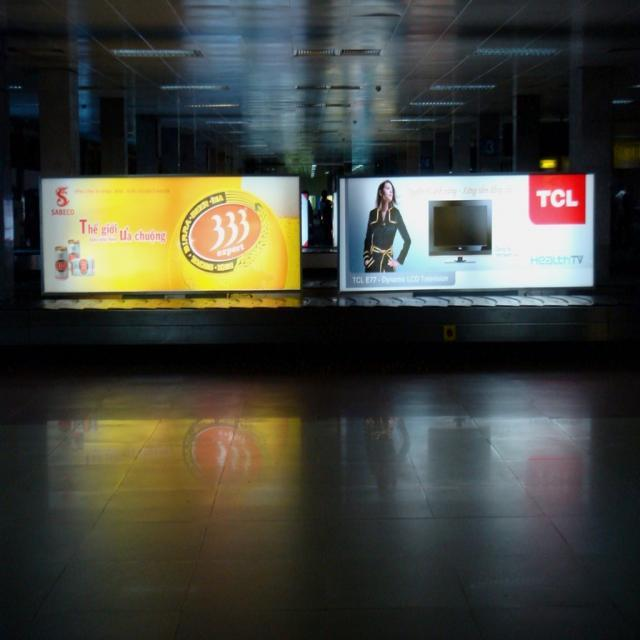others: (24, 151, 619, 339)
